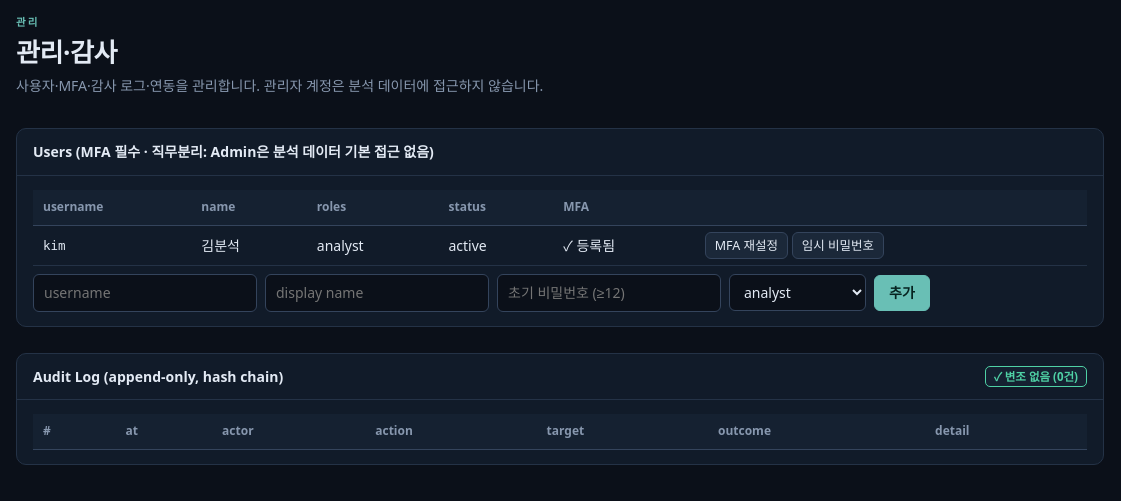
Test: Admin user management › sets a temporary password and tells the admin to hand it over safely
Click the button "임시 비밀번호" at (838,245), box top-left (792, 232), bottom-right (884, 259)
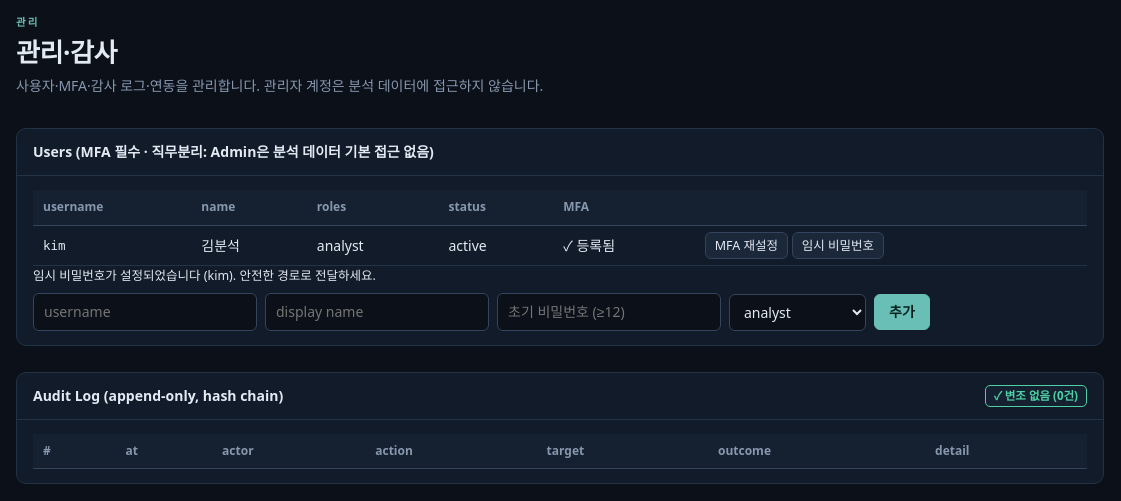
Now the text "임시 비밀번호가 설정되었습니다 (kim). 안전한 경로로 전달하세요." is shown, box top-left (33, 267), bottom-right (376, 284)
